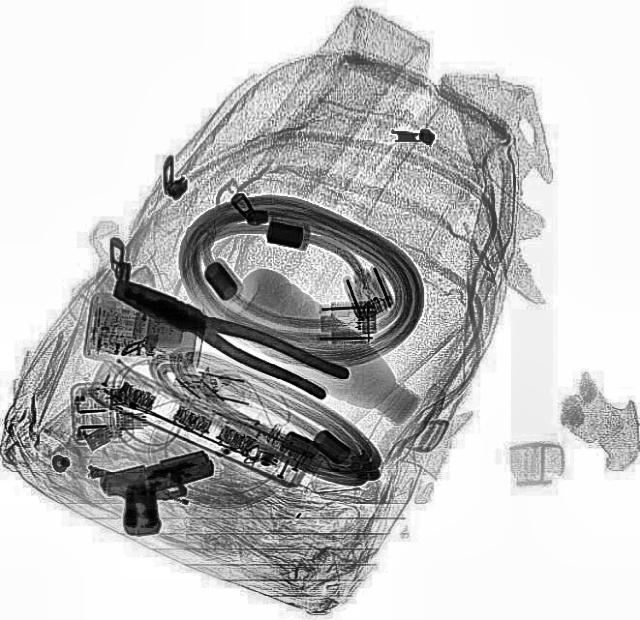Gun: (93, 447, 230, 543)
Pliers: (104, 264, 350, 406)
